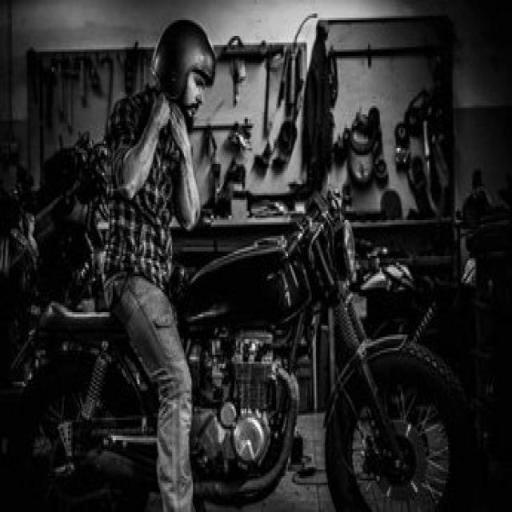Helmet: (151, 20, 215, 99)
Motor: (176, 194, 474, 510)
